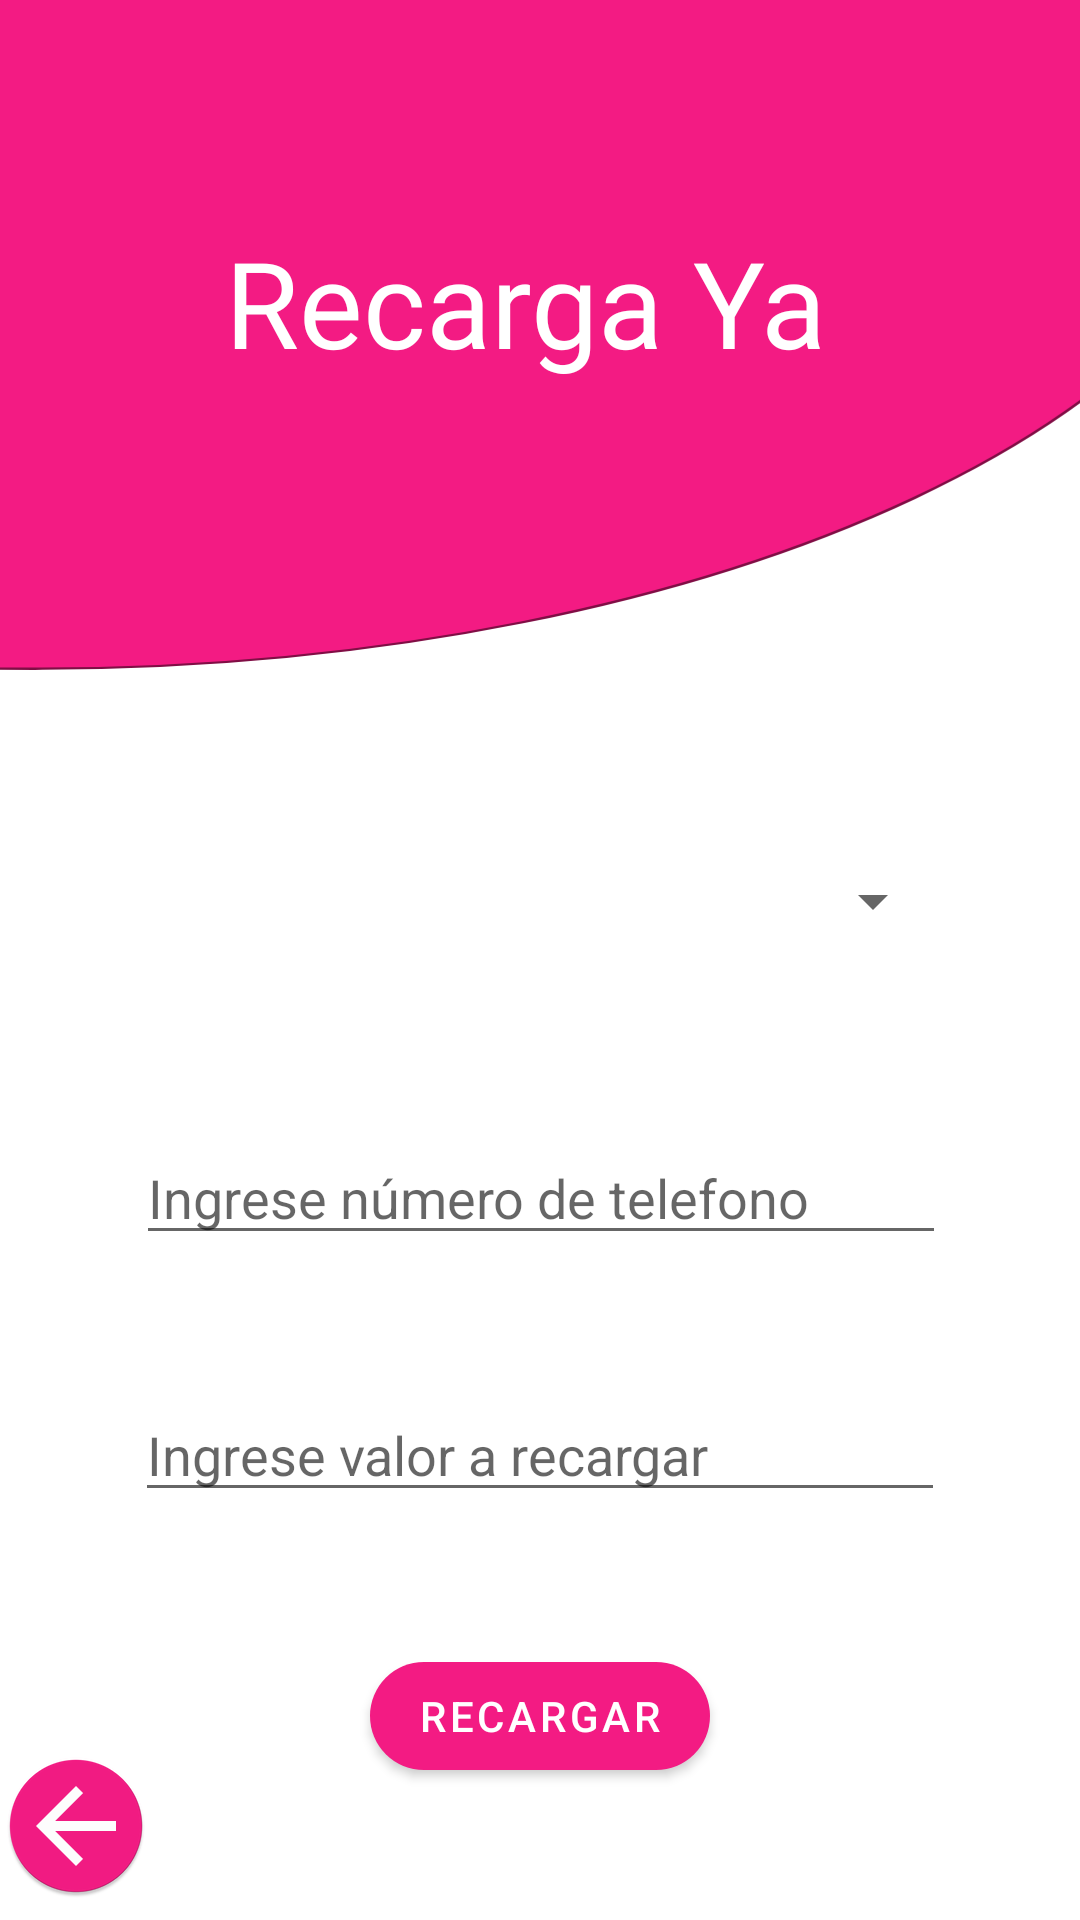

Named icons in this screenshot (1080 × 1920) and their bounding boxes, rect(x1, y1, x2, y2):
back: rect(9, 1759, 143, 1895)
